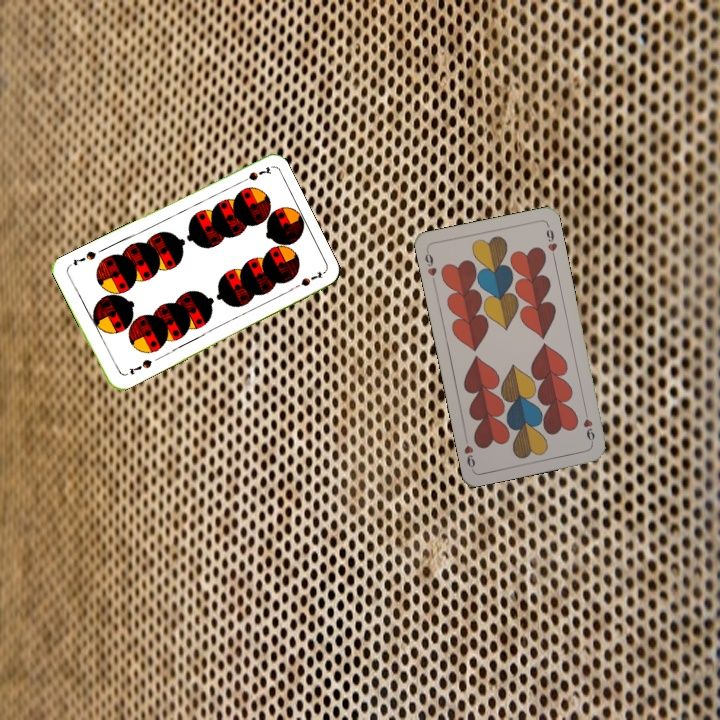H9: (421, 246, 439, 286), (579, 406, 597, 446)
S7: (235, 163, 274, 187), (125, 355, 155, 378)
